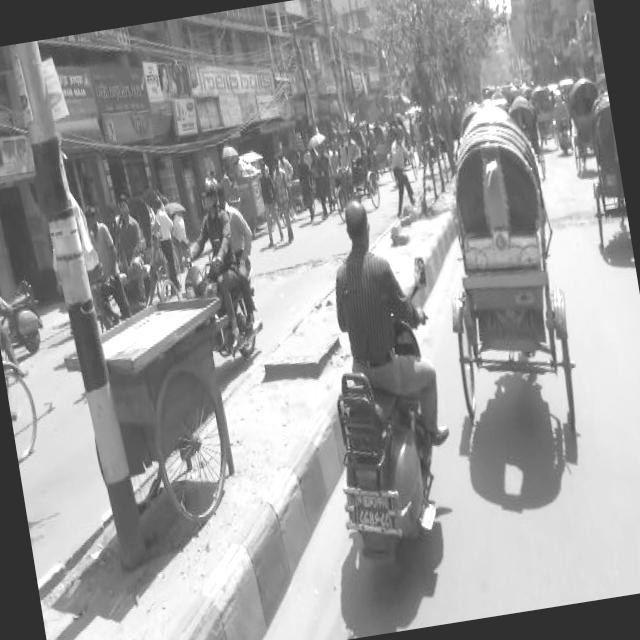motorcycle: (294, 184, 473, 576), (418, 91, 592, 451), (167, 174, 274, 384), (574, 93, 633, 256), (324, 122, 384, 218), (562, 75, 612, 184), (278, 144, 314, 223), (546, 82, 578, 160), (367, 120, 397, 182)
